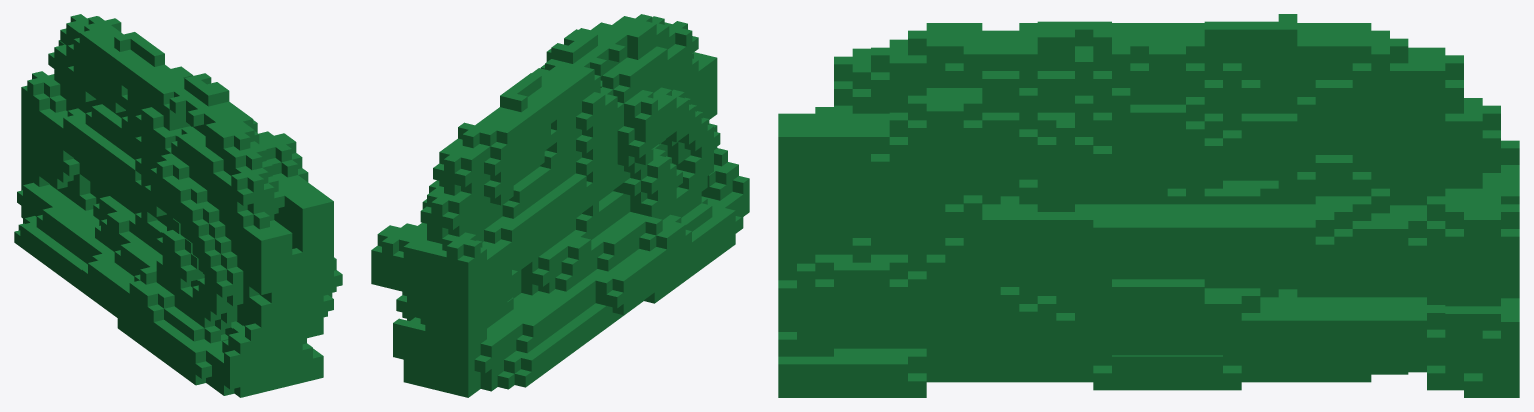
The model's file is arbusto_02.fbx.
3 views of the same model, side by side, from view 1: azimuth 30°, elevation 25°; view 2: azimuth 150°, elevation 25°; view 3: azimuth 270°, elevation 25° (orthographic). The views are drawn at different scales.
Parts seen in each view (by area): view 1: arbusto_02; view 2: arbusto_02; view 3: arbusto_02.
Part boxes in pixels (x1,y1,x2,y2): arbusto_02: (14,14,342,397); arbusto_02: (371,14,749,397); arbusto_02: (778,14,1519,397).
Bounding box in the file's own units: 140 × 210 × 400.
1 material, 1 textured.
